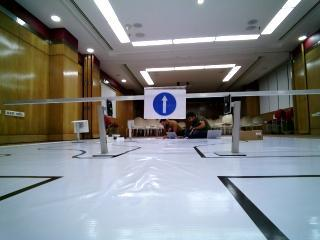straight: (143, 86, 187, 118)
